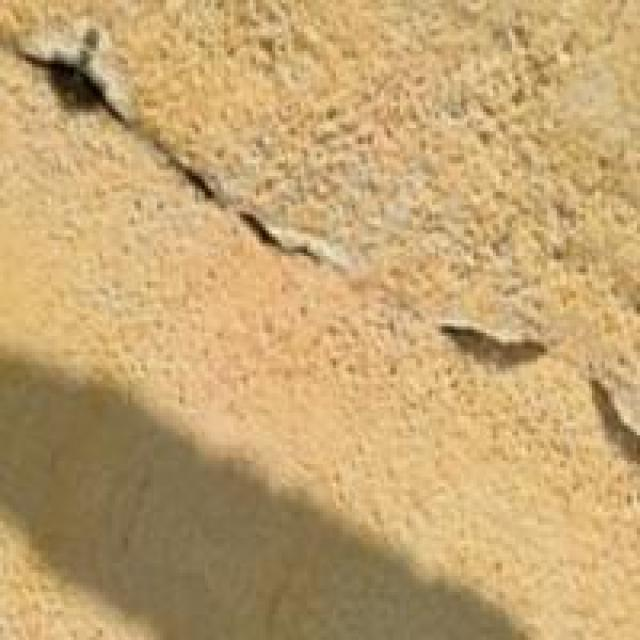Crack: (14, 0, 631, 454)
